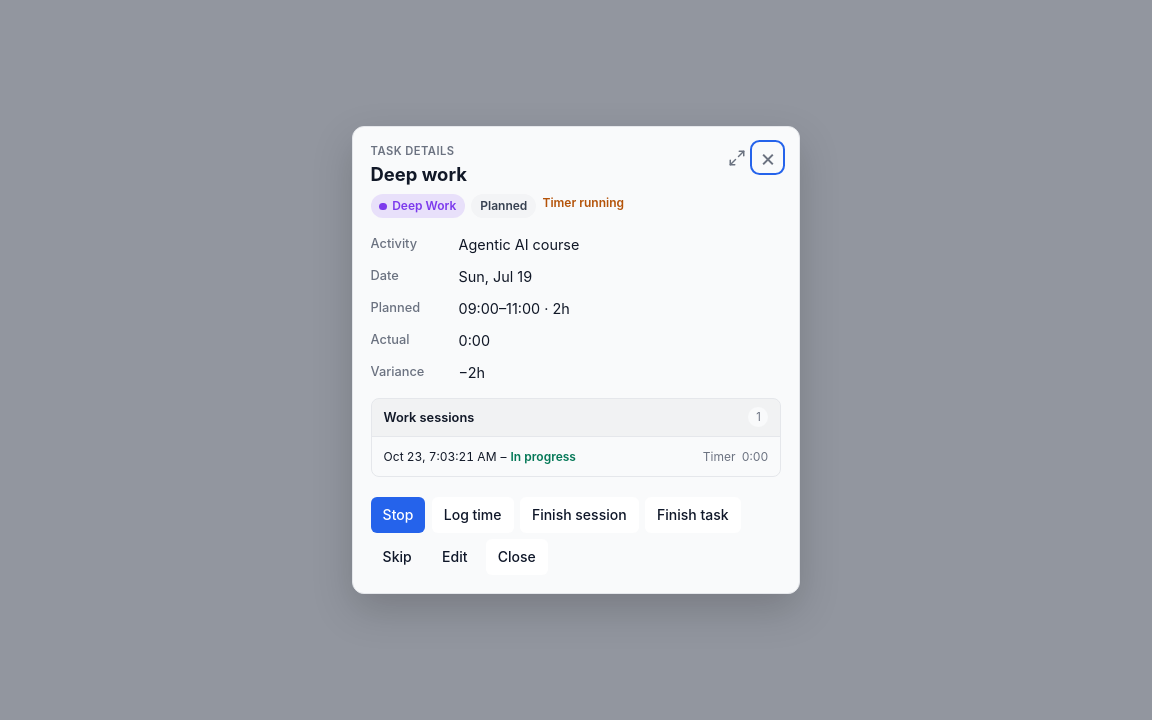
Test case: TaskDetailModal focus mode › ticks elapsed from runningEntry even before entries refetch
Step 1. Click the button named "Expand to full screen" → click(737, 158), box [723,143,752,172]
Wait 3000 ms
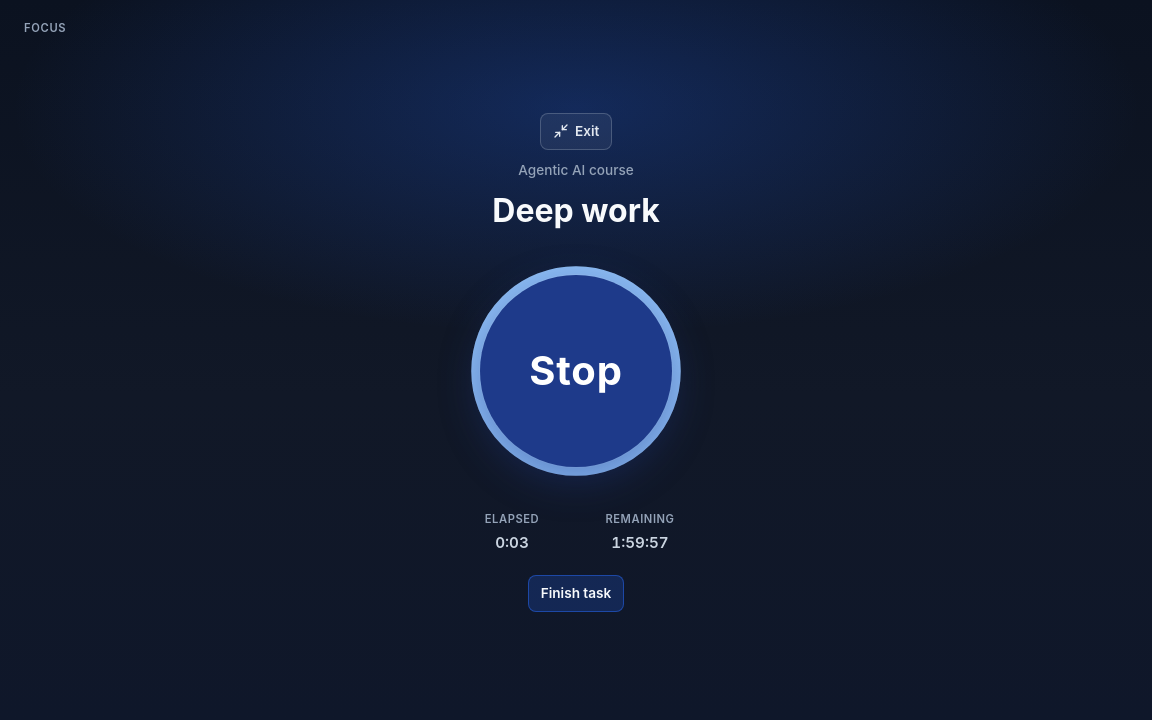
Expected: the button "Stop" is shown, [480,275,672,467]
Expected: the text "0:03" is shown, [495,533,529,552]
Expected: the text "1:59:57" is shown, [611,533,669,552]
